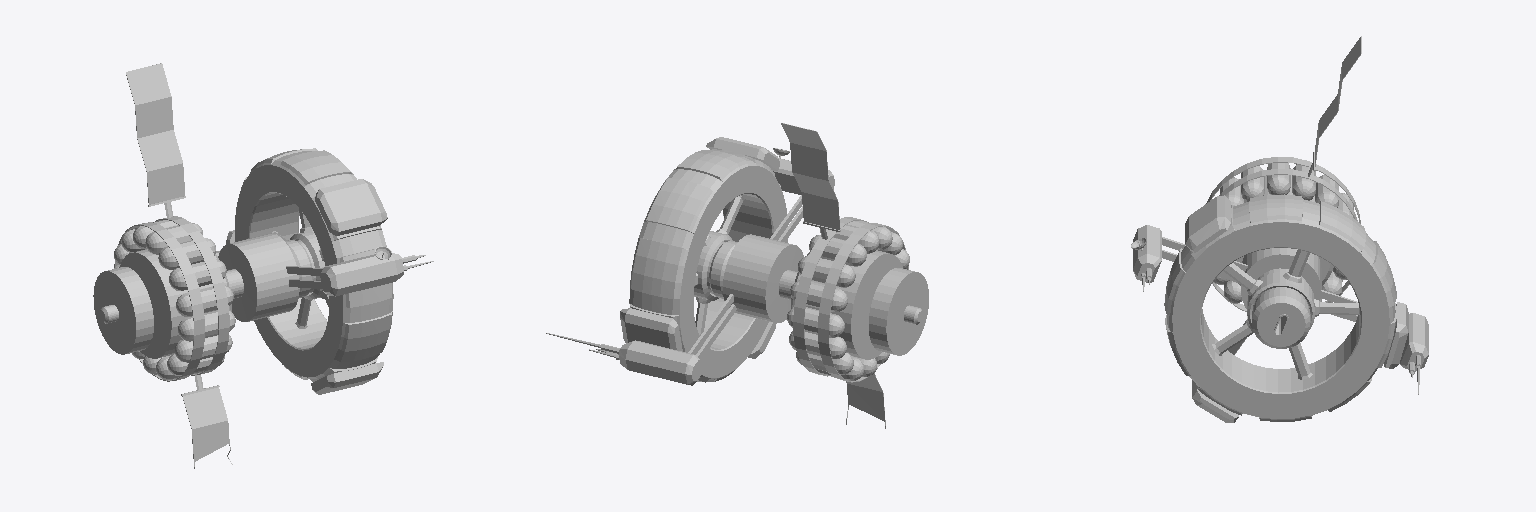
Rendered from satellite_01_rust.obj.
3 renders of one model, left to right at view 1: azimuth 30°, elevation 25°; view 2: azimuth 150°, elevation 25°; view 3: azimuth 270°, elevation 25°, orthographic.
Parts seen in each view (by area): view 1: Cylinder001; view 2: Cylinder001; view 3: Cylinder001.
Boxes of the visible parts, x1=… form: Cylinder001: x1=93, y1=63, x2=433, y2=468; Cylinder001: x1=546, y1=123, x2=928, y2=428; Cylinder001: x1=1131, y1=36, x2=1428, y2=422.
Bounding box in the file's own units: 3.34 × 3.67 × 2.82.